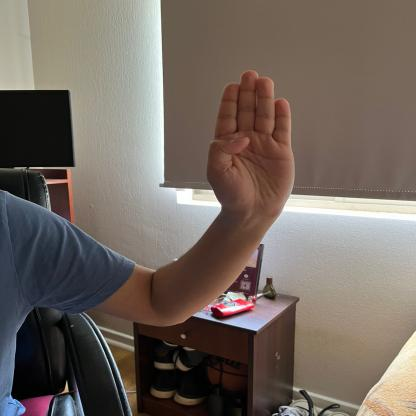B: (206, 69, 301, 216)
